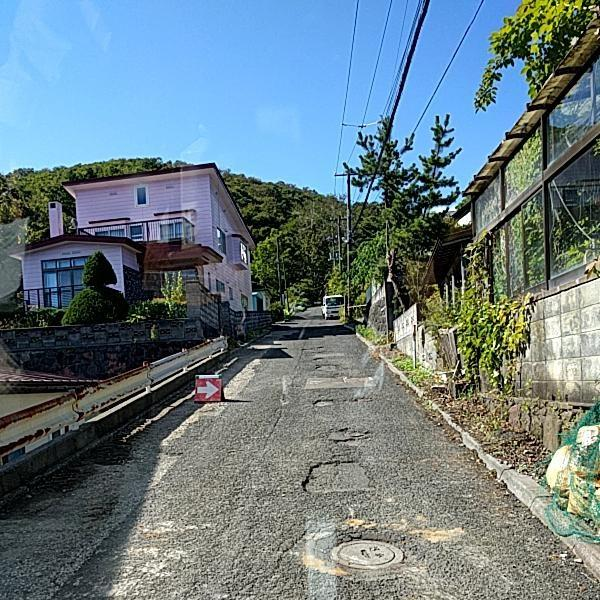pothole: (303, 459, 376, 494), (330, 427, 369, 444), (313, 398, 335, 407), (315, 362, 337, 371)
